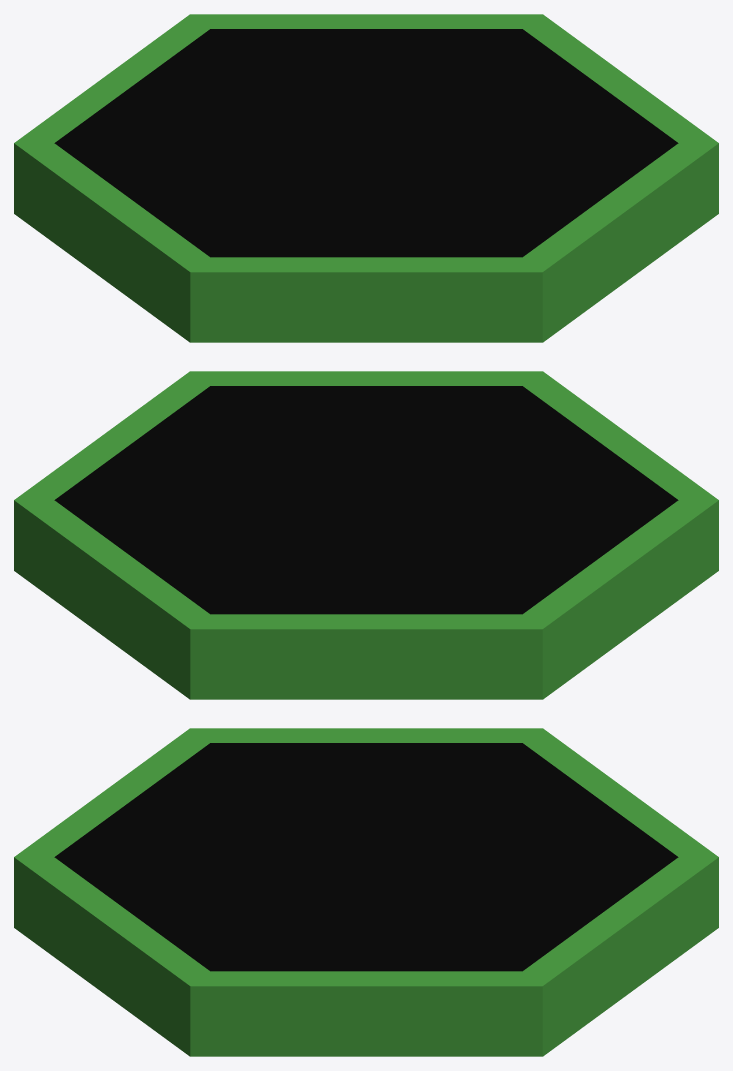
The model's file is HexagonoProto.fbx.
3 views of the same model, one above another, from view 1: azimuth 30°, elevation 25°; view 2: azimuth 150°, elevation 25°; view 3: azimuth 270°, elevation 25° (orthographic).
Parts seen in each view (by area): view 1: Hex; view 2: Hex; view 3: Hex.
Boxes of the visible parts, box(x1,y1,x2,y2) form: Hex: box(14, 14, 718, 342); Hex: box(14, 371, 718, 699); Hex: box(14, 728, 718, 1056).
Size of the model in its own units: 173 by 22.11 by 200.
